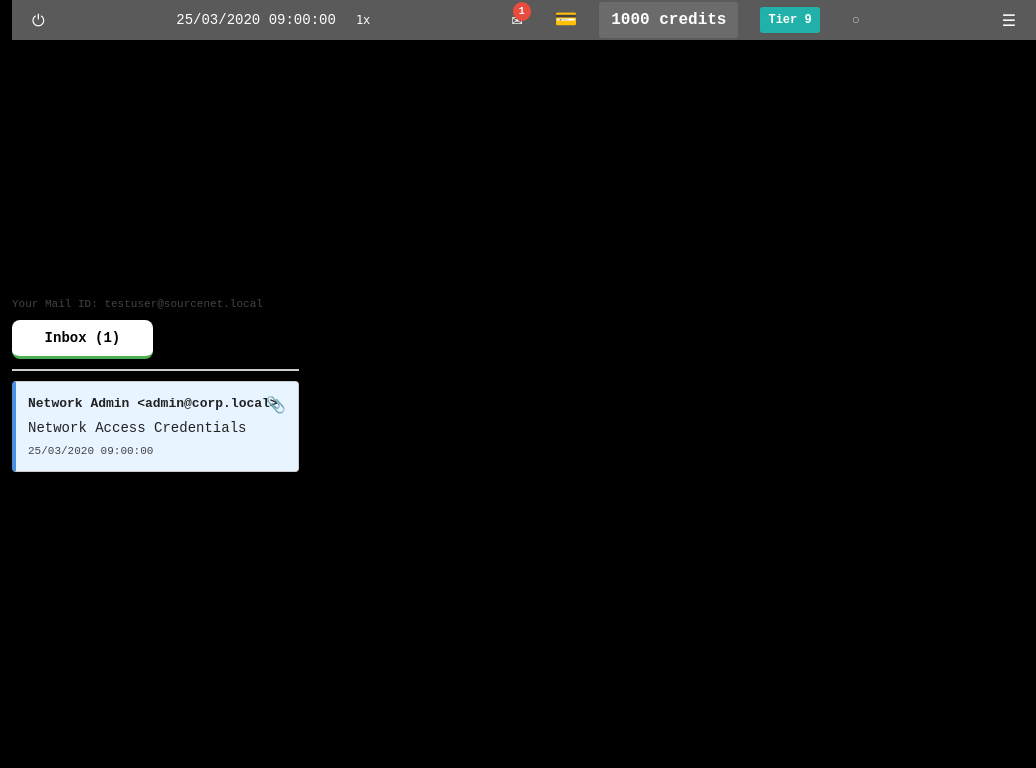
Network Address Integration › should display network address attachment correctly
Expected: the text "Your Mail ID: testuser@sourcenet.local" is shown, [12,296,299,312]
Click the text "Network Access Credentials" at (137, 428), box [28,420,246,436]
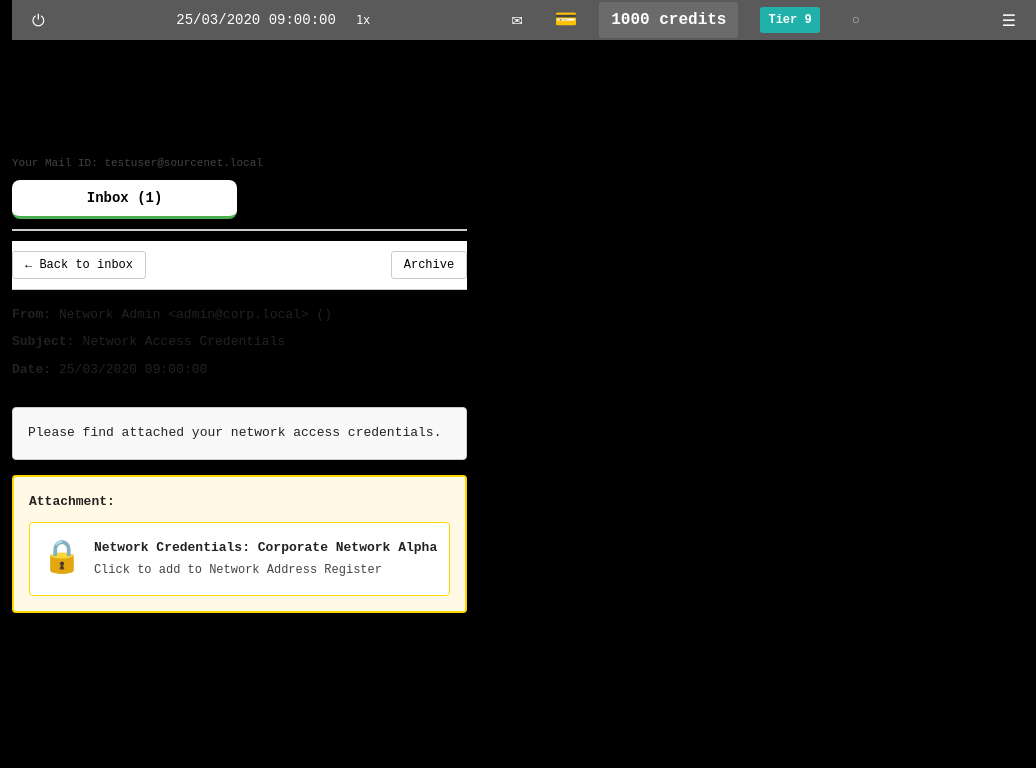
Expected: the text "Network Credentials: Corporate Network Alpha" is shown, [94,538,437,557]
Expected: the text "Click to add to Network Address Register" is shown, [94,563,382,577]
Expected: the button with test id "network-attachment-corp-network-1" is shown, [29,522,450,596]
